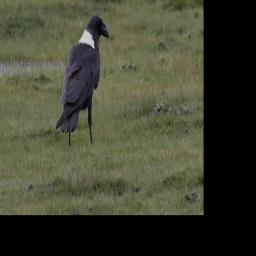Crow: (55, 14, 109, 144)
